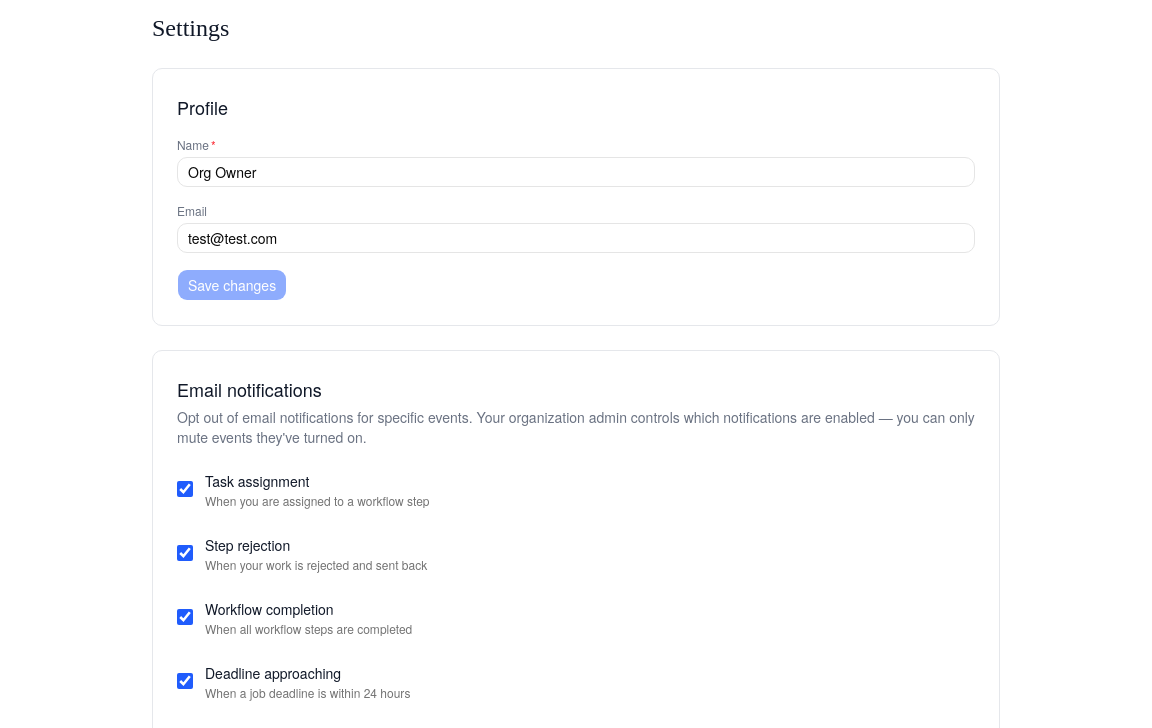
Test: SettingsPage profile while impersonating › Save says why it is disabled
The image size is (1152, 728).
Hover over the button "Save changes" at [232, 285], box [177,269,287,301]
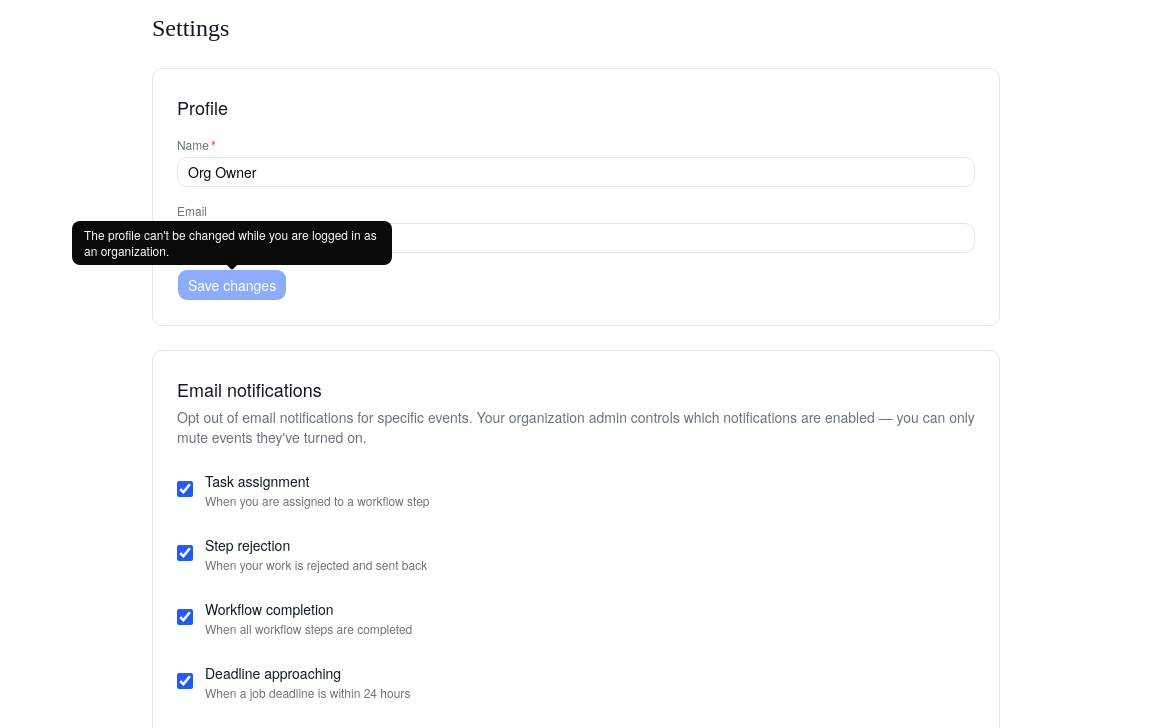
Check: the text "The profile can't be changed while you are logged in as an organization." is shown, box [72,221,392,265]
